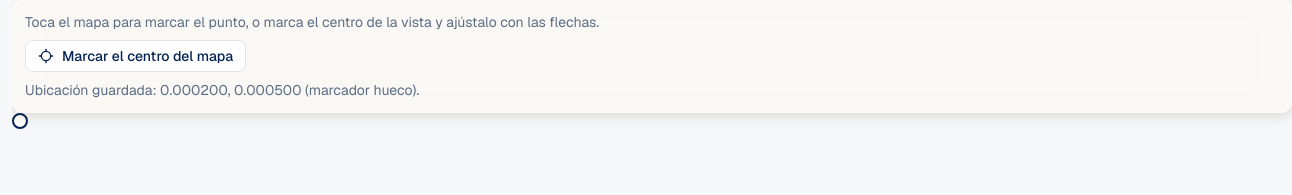
Test: HerramientaPunto (AV-428) › enseña la ubicación guardada y, tras marcar el centro, pasa el foco al punto
expect the text "Ubicación guardada: 0.000200, 0.000500 (marcador hueco)." is shown: met, box [25,81,419,99]
Click the button "Marcar el centro del mapa" at (136, 56), box [25,40,246,72]
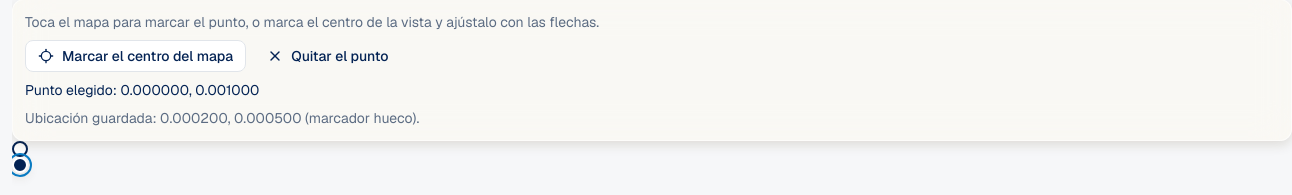
Press Arrowup
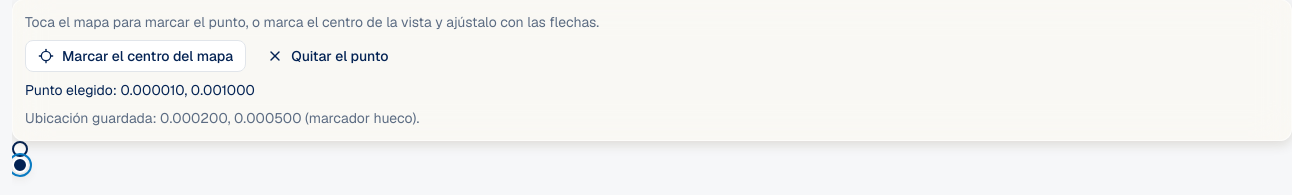
expect the text "Punto elegido: 0.000010, 0.001000" is shown: met, box [25,81,255,99]
